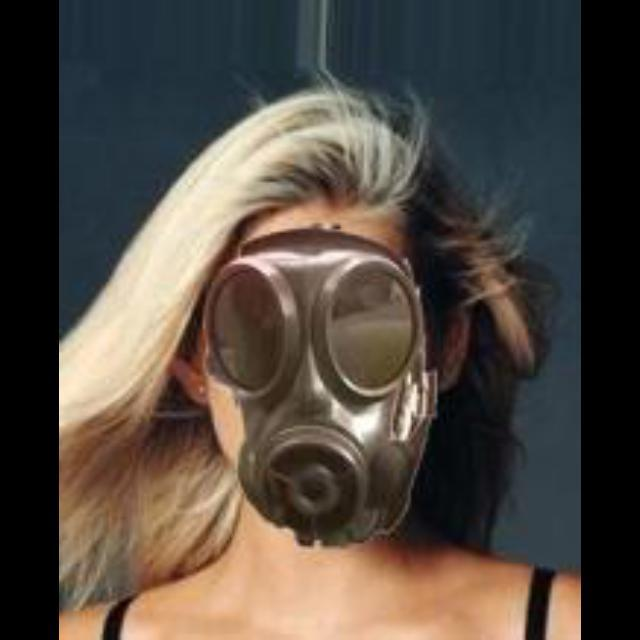suspicion: (157, 105, 518, 560)
